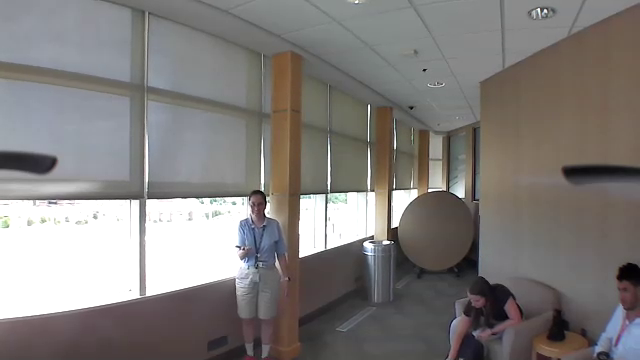land: (230, 241, 261, 262)
